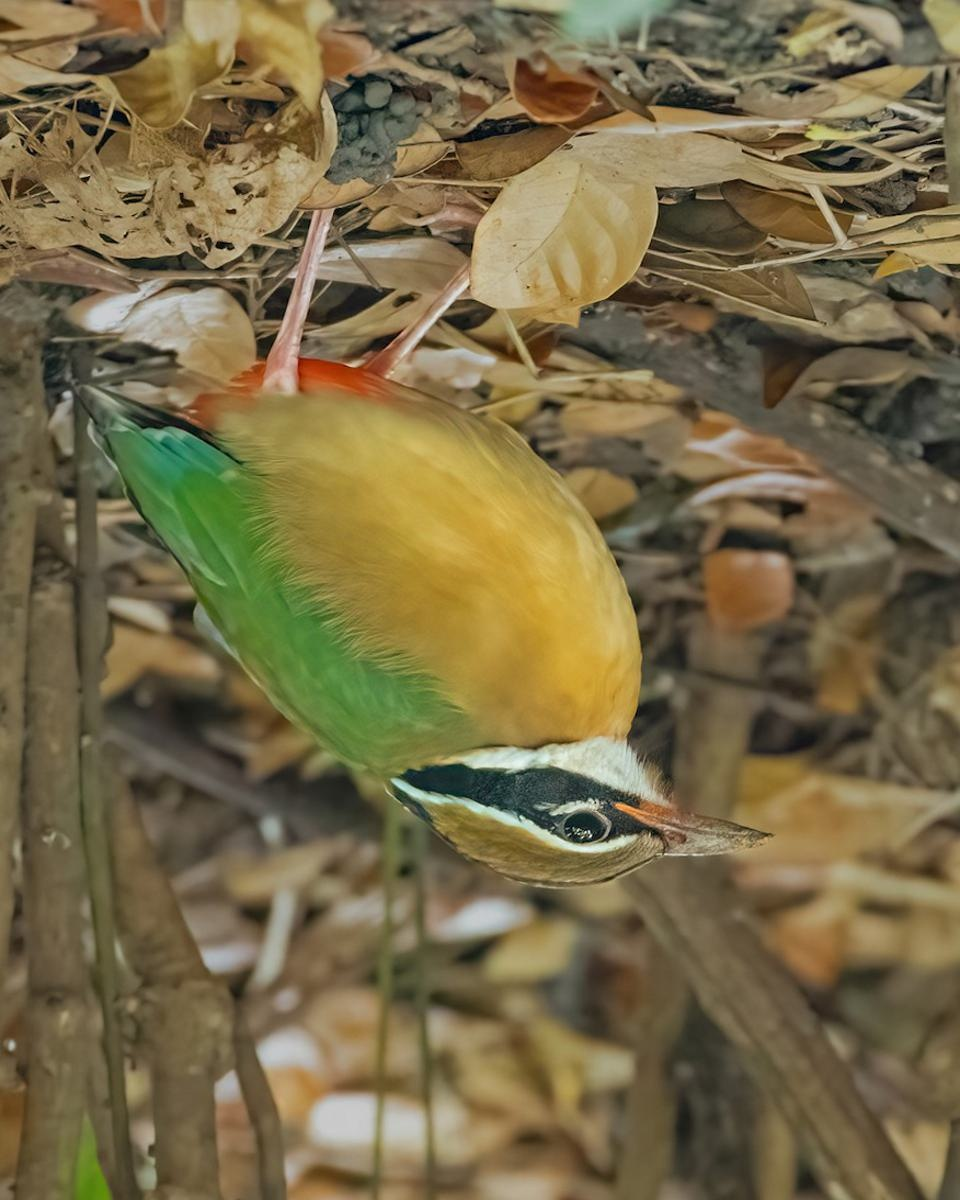pitta: (45, 198, 809, 918)
